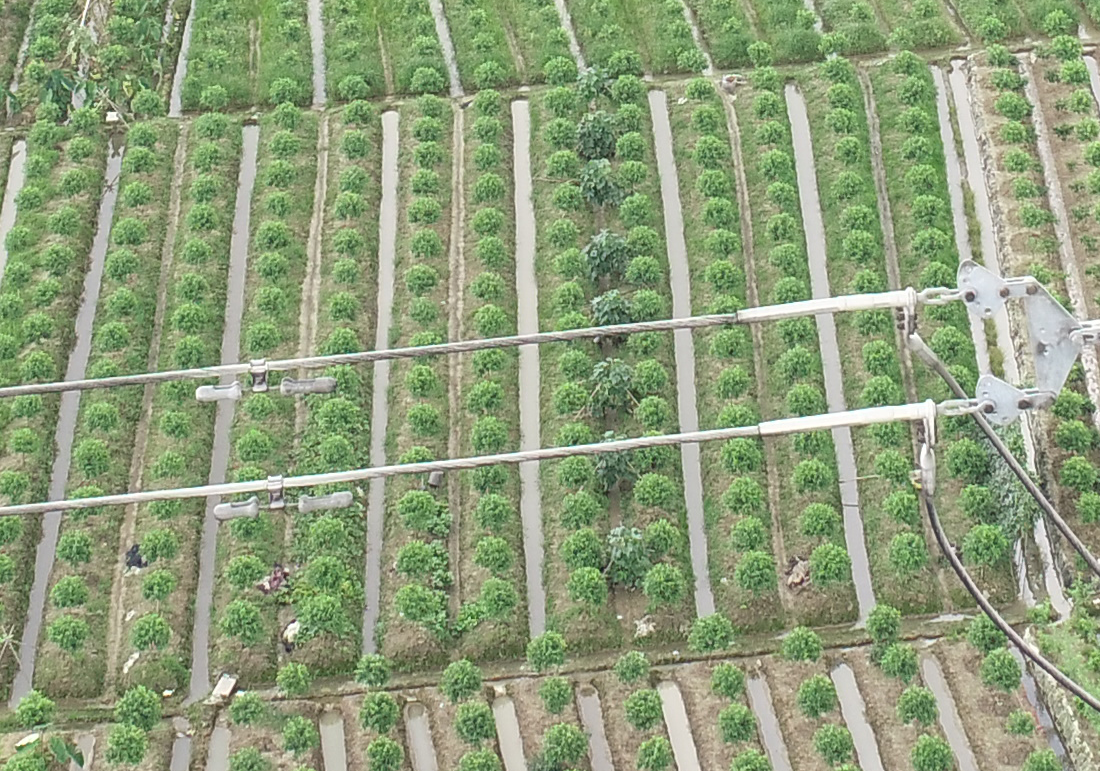damper: (192, 356, 337, 405), (212, 471, 354, 520)
